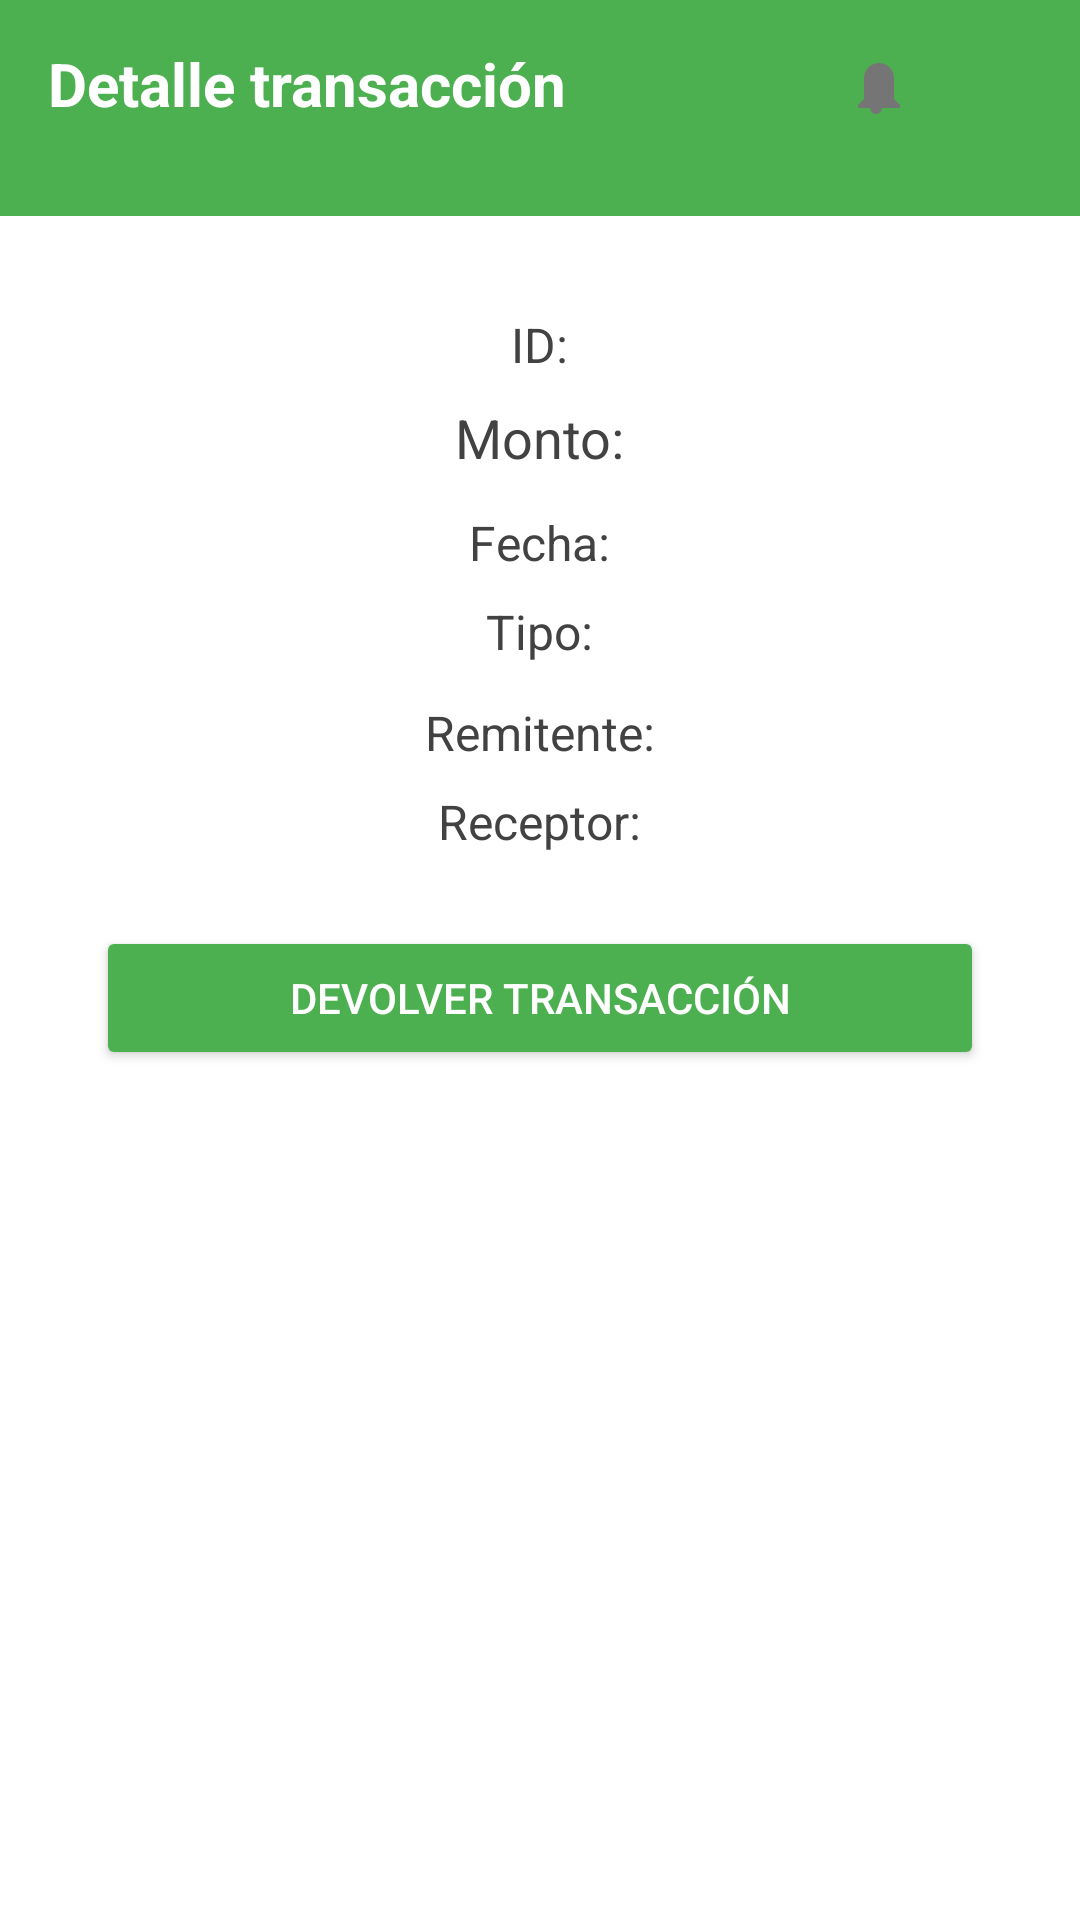

Icon bounding boxes for this 1080 × 1920 phone screenshot, format rect(x1, y1, x2, y2):
Notificaciones: rect(858, 63, 900, 114)
